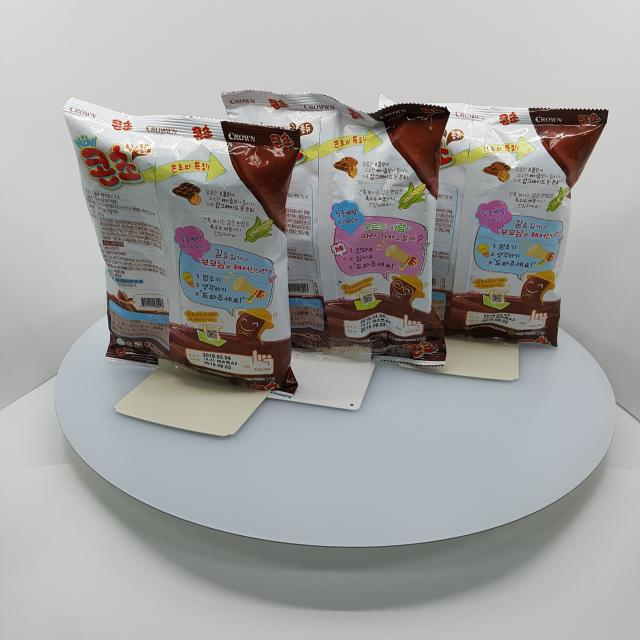-66G: (63, 98, 302, 399), (221, 90, 451, 368), (373, 95, 609, 348)
